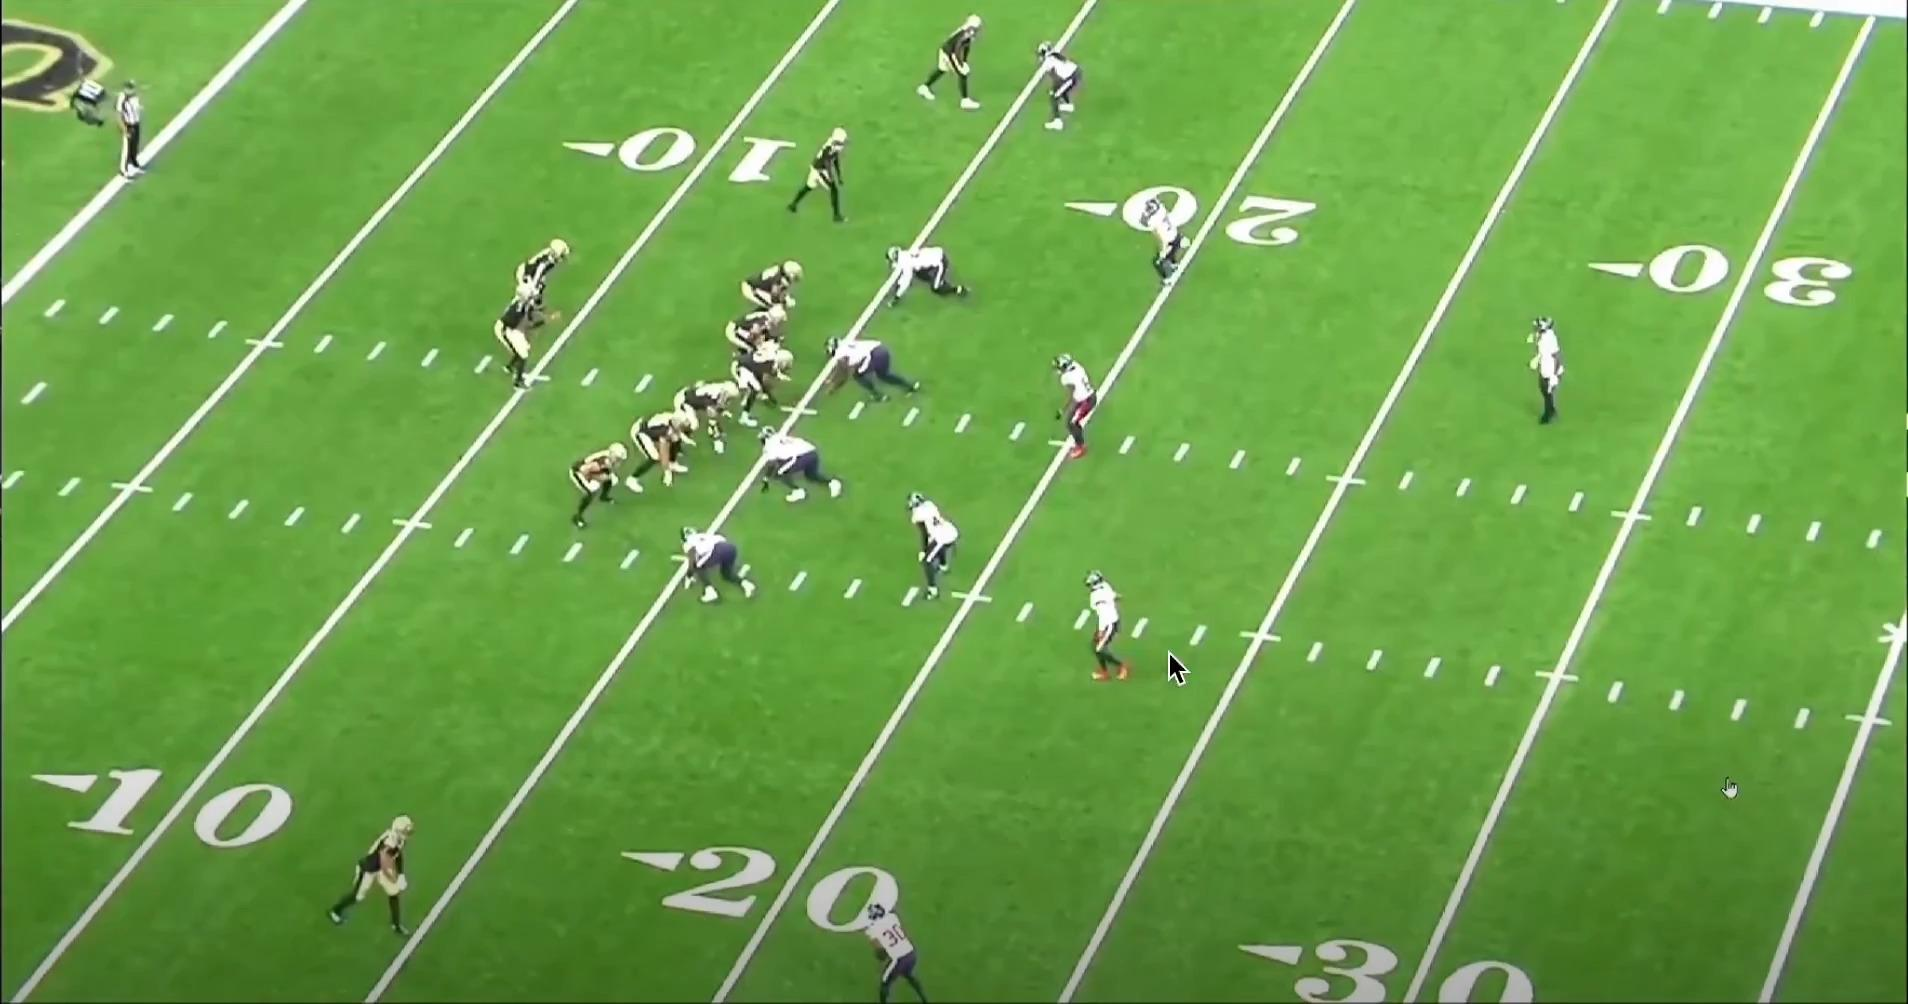player: (328, 813, 427, 947), (754, 423, 852, 510), (670, 525, 762, 615), (852, 900, 929, 1004), (919, 10, 995, 114), (824, 332, 928, 406), (792, 123, 863, 227), (497, 276, 559, 393), (912, 490, 972, 602), (625, 407, 700, 493), (1086, 571, 1138, 692), (724, 341, 795, 422), (567, 438, 629, 530), (883, 240, 969, 306), (513, 239, 570, 337), (1521, 315, 1567, 432), (673, 378, 744, 453), (1050, 353, 1096, 466), (1138, 199, 1189, 297), (1039, 39, 1091, 134), (737, 255, 806, 310), (726, 303, 793, 356)
ref: (116, 77, 156, 187)
